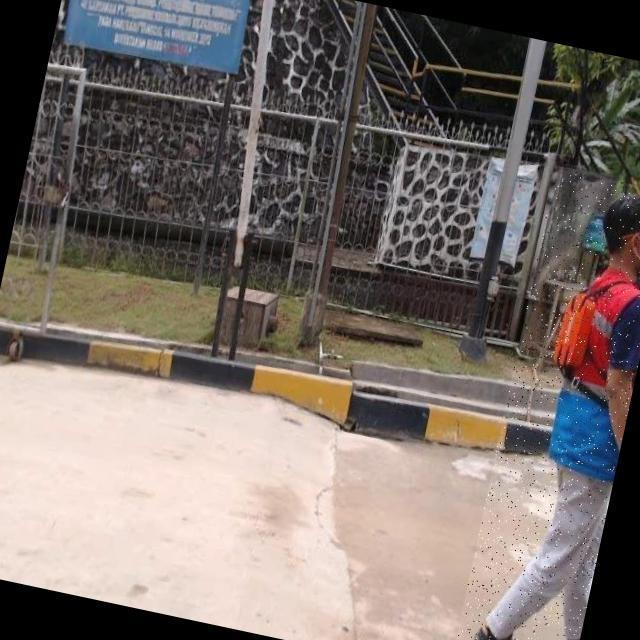Person: (454, 164, 640, 640)
Safety Boot: (462, 622, 545, 640)
Safety Vest: (526, 255, 640, 485)
no-helmet: (598, 189, 640, 225)
